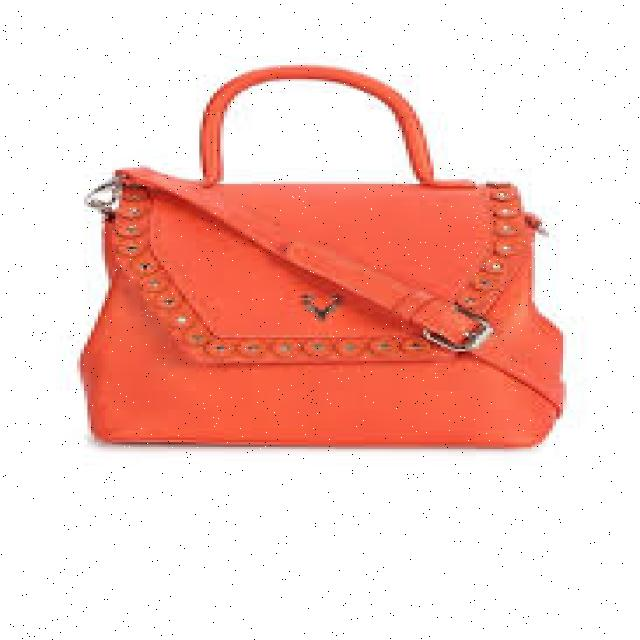handbag: (77, 63, 566, 447)
